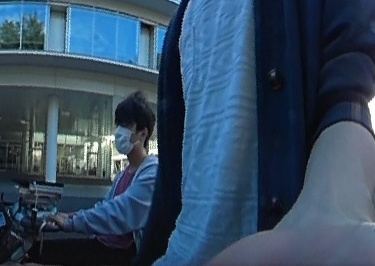person: (81, 97, 157, 256)
